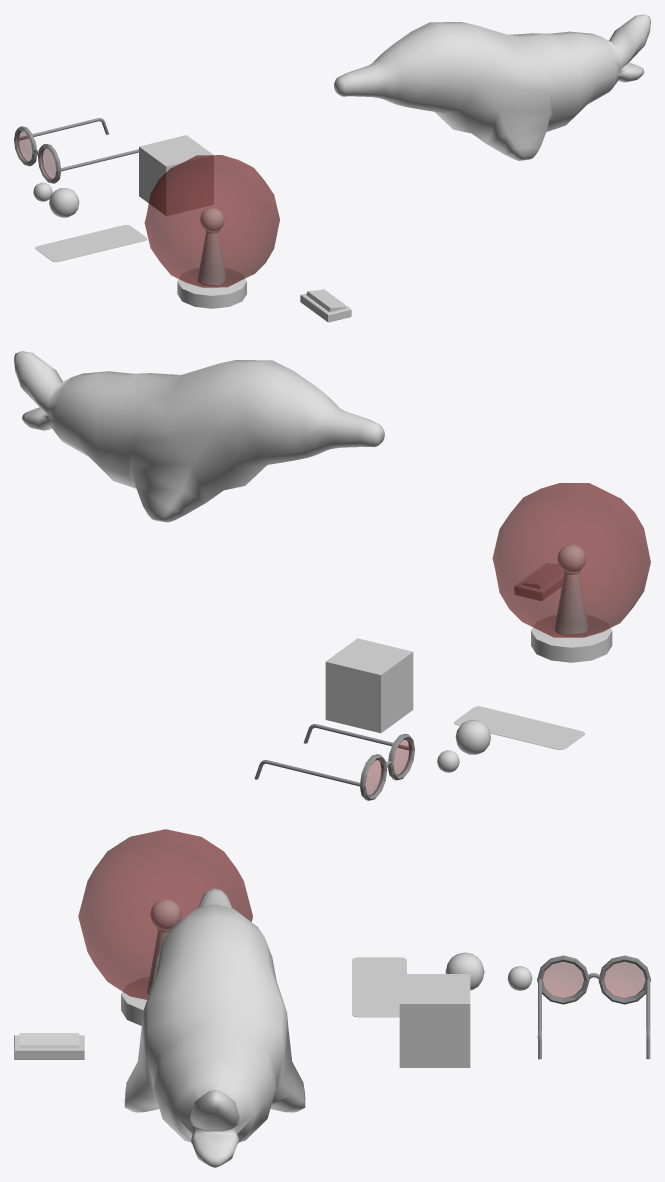
The model's file is obets 1.FBX.
3 views of the same model, one above another, from view 1: azimuth 30°, elevation 25°; view 2: azimuth 150°, elevation 25°; view 3: azimuth 270°, elevation 25° (orthographic). The views are drawn at different scales.
Visible parts, largest first — view 1: Cylinder004, Box005, Box002, Cylinder005, Cylinder001, Plane001, Box007, Box003, Box006; view 2: Cylinder004, Box005, Box002, Cylinder005, Cylinder001, Plane001, Box007, Box003, Box006; view 3: Cylinder004, Box005, Box002, Cylinder001, Plane001, Box007, Cylinder005, Box003, Box006, Box004.
Part boxes in pixels (x1=…): Cylinder004: x1=334, y1=14, x2=650, y2=160; Box005: x1=144, y1=155, x2=279, y2=287; Box002: x1=139, y1=135, x2=213, y2=215; Cylinder005: x1=177, y1=230, x2=246, y2=308; Cylinder001: x1=14, y1=118, x2=138, y2=183; Plane001: x1=35, y1=225, x2=147, y2=262; Box007: x1=300, y1=289, x2=351, y2=322; Box003: x1=49, y1=188, x2=79, y2=217; Box006: x1=200, y1=208, x2=224, y2=231; Cylinder004: x1=14, y1=351, x2=384, y2=522; Box005: x1=492, y1=483, x2=650, y2=637; Box002: x1=325, y1=638, x2=413, y2=733; Cylinder005: x1=531, y1=570, x2=612, y2=662; Cylinder001: x1=254, y1=724, x2=414, y2=800; Plane001: x1=454, y1=706, x2=585, y2=749; Box007: x1=514, y1=563, x2=563, y2=600; Box003: x1=455, y1=720, x2=490, y2=754; Box006: x1=557, y1=544, x2=585, y2=572; Cylinder004: x1=124, y1=888, x2=305, y2=1167; Box005: x1=78, y1=829, x2=252, y2=999; Box002: x1=399, y1=974, x2=470, y2=1067; Cylinder001: x1=537, y1=955, x2=650, y2=1059; Plane001: x1=352, y1=957, x2=406, y2=1017; Box007: x1=14, y1=1033, x2=84, y2=1059; Cylinder005: x1=121, y1=927, x2=169, y2=1025; Box003: x1=445, y1=952, x2=484, y2=990; Box006: x1=150, y1=899, x2=181, y2=929; Box004: x1=507, y1=966, x2=532, y2=990.
Size of the model in its own units: 103 by 35.33 by 81.08.
